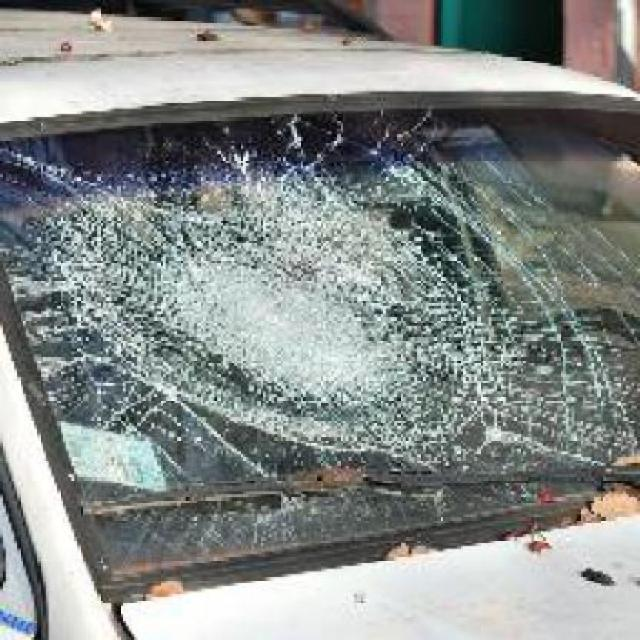damaged-windscreen: (0, 94, 635, 587)
